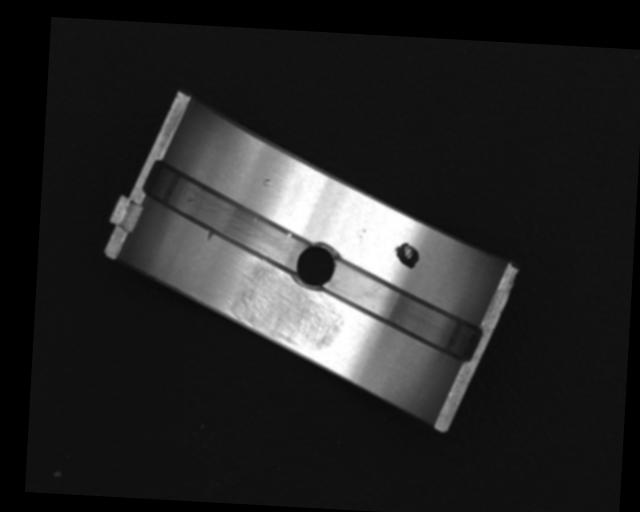blot: (392, 241, 421, 271)
bruise: (204, 227, 216, 242), (262, 176, 272, 188)
gap: (145, 158, 318, 278), (316, 253, 485, 373)
hole: (288, 237, 341, 292)
scratch: (228, 257, 350, 353)
